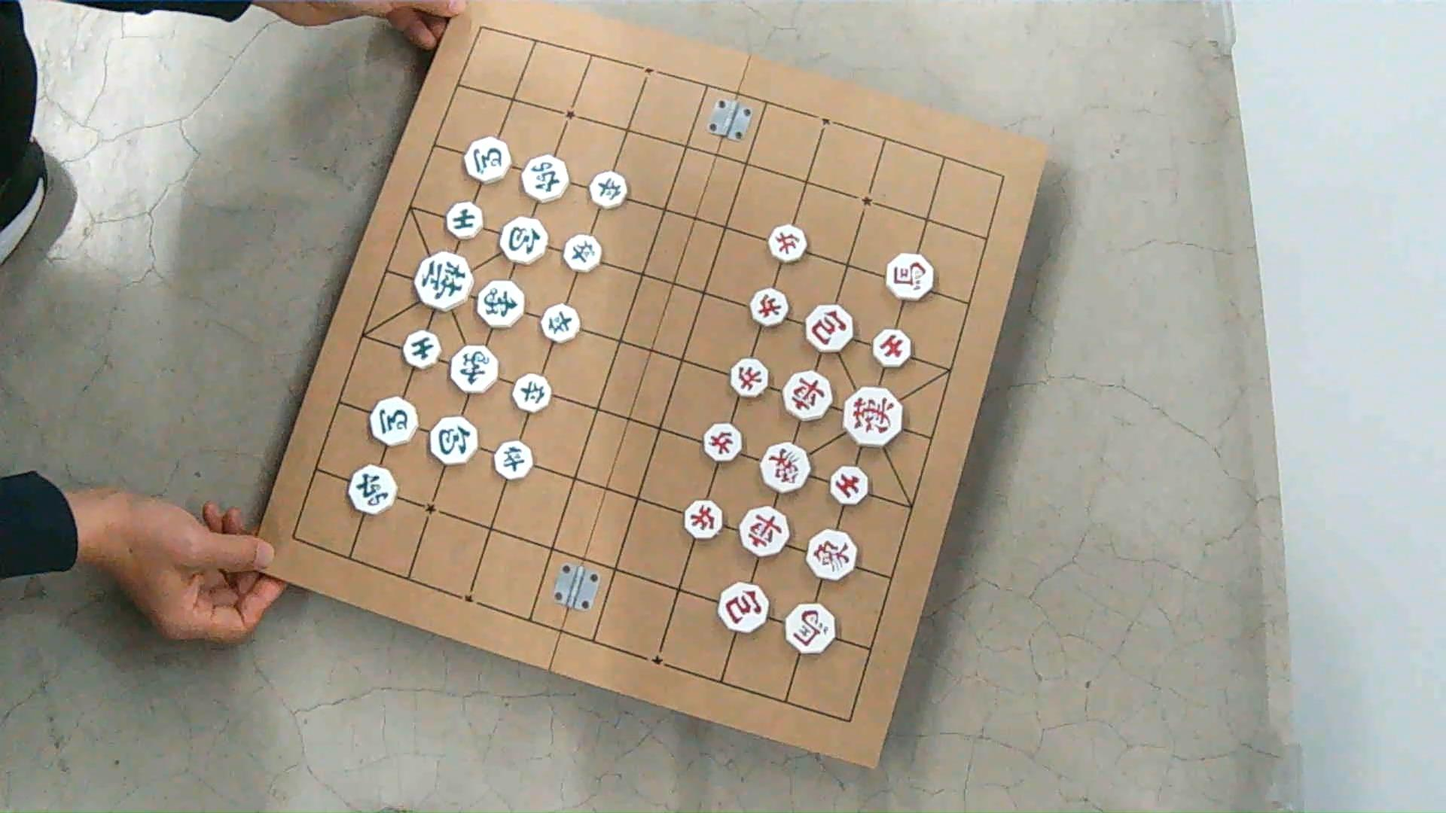cha_green: (520, 154, 570, 202), (349, 465, 395, 513)
cha_red: (738, 506, 792, 558), (782, 371, 831, 421)
jol_green: (512, 373, 551, 412), (493, 441, 532, 480), (541, 304, 579, 343), (564, 235, 601, 272), (589, 172, 626, 208)
jol_red: (682, 500, 722, 540), (729, 358, 768, 397), (750, 288, 788, 327), (768, 225, 806, 263), (703, 423, 741, 461)
ma_green: (464, 136, 512, 184), (370, 397, 416, 446)
ma_red: (785, 604, 834, 653), (886, 254, 934, 300)
po_green: (429, 416, 476, 464), (499, 217, 547, 263)
po_red: (718, 583, 767, 632), (806, 305, 852, 352)
sa_green: (446, 201, 484, 240), (403, 330, 439, 368)
sa_red: (829, 466, 867, 505), (872, 329, 911, 367)
sang_green: (449, 345, 497, 394), (477, 280, 523, 328)
sang_red: (759, 442, 811, 493), (806, 530, 856, 580)
wang_green: (415, 251, 471, 310)
wang_red: (843, 386, 903, 447)
